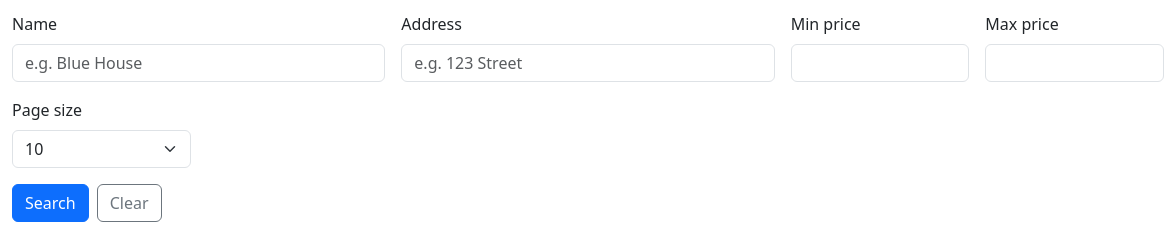
FiltersForm › Clear resets filters
Step 1. Type "X" into the field labelled "Name" → (199, 63), box [12,44,385,82]
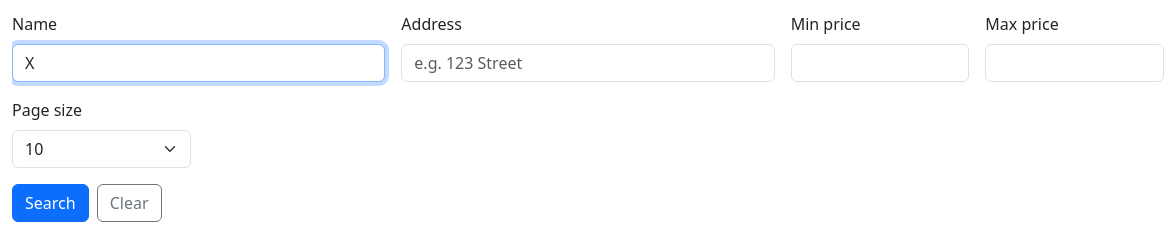
Step 2. Type "Y" into the field labelled "Address" → (588, 63), box [401,44,775,82]
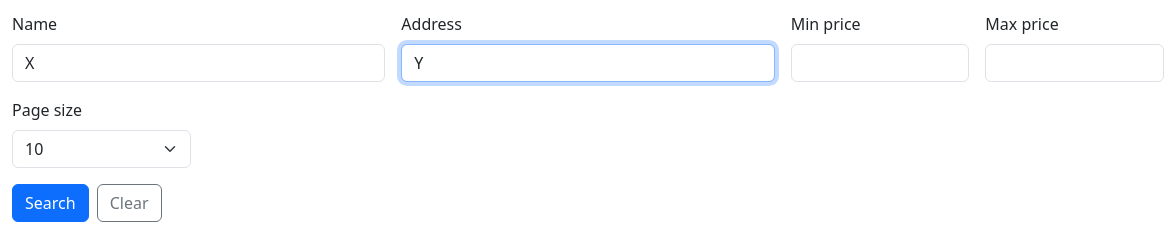
Step 3. Click the button "Clear" → (129, 203), box [97,184,162,222]
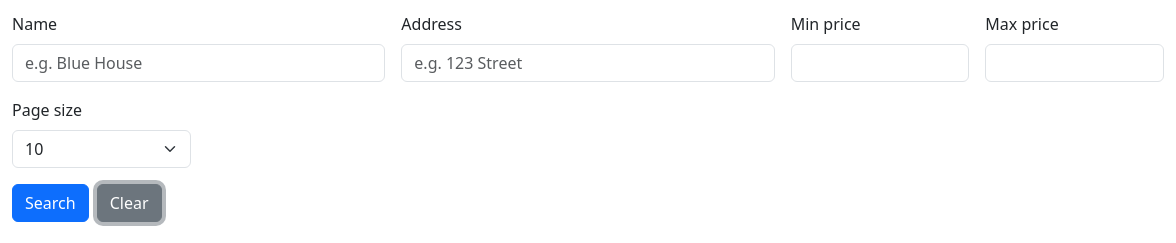
Expected: the field labelled "Name" is empty, [12,44,385,82]
Expected: the field labelled "Address" is empty, [401,44,775,82]
